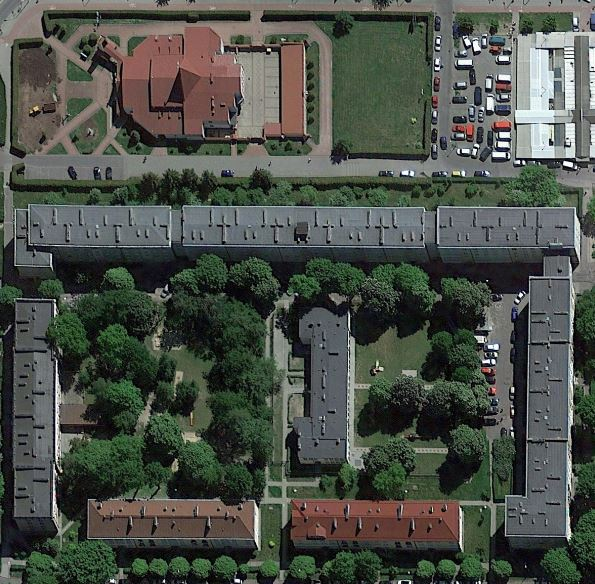block of flats: (10, 203, 589, 283), (498, 254, 584, 551), (9, 293, 64, 535), (282, 491, 469, 558), (85, 493, 268, 555), (289, 297, 353, 470)
church: (97, 13, 249, 151)
shopping_center: (509, 28, 595, 165)
